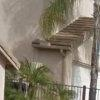Palm tree: (86, 3, 99, 100)
